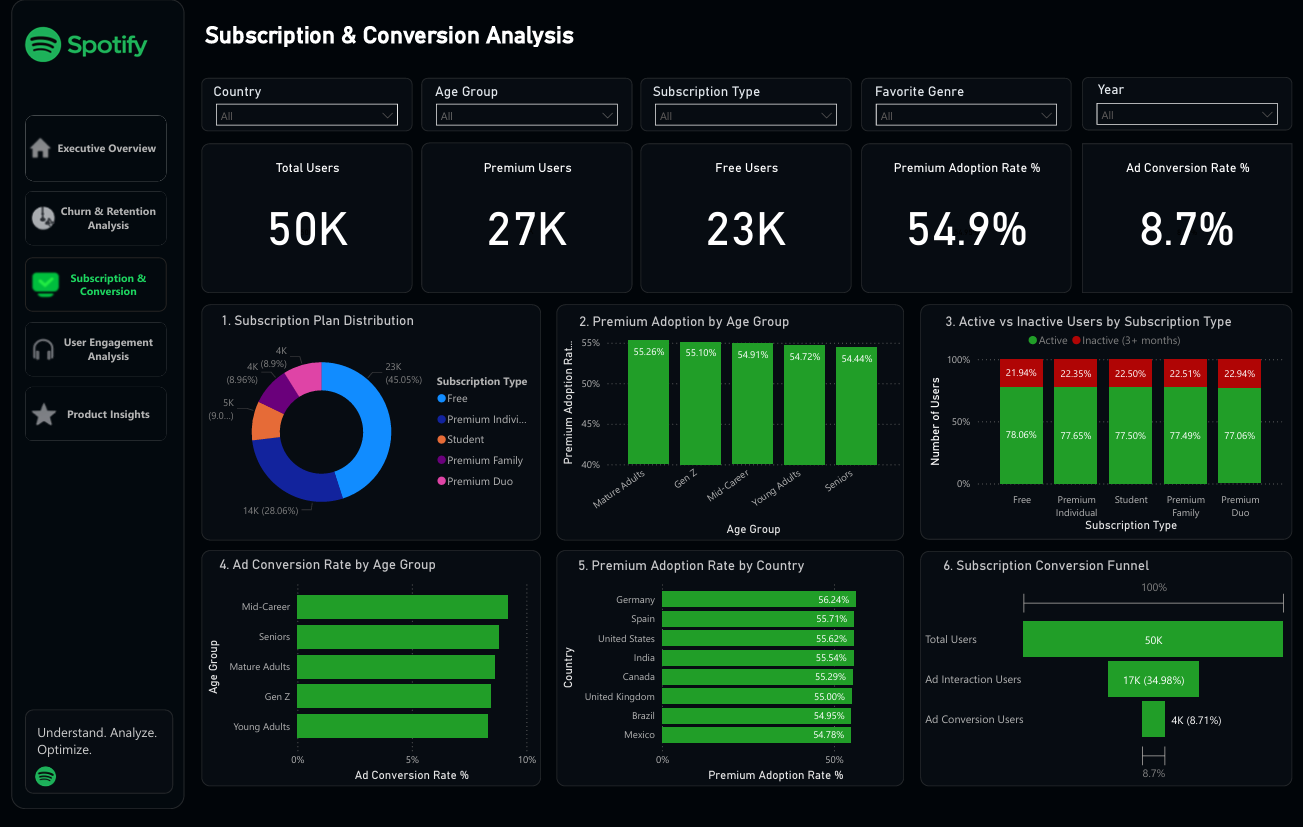

Layout of this report page (visuals, bound fields, positions):
{"tool":"powerbi","page":{"name":"Subscription Conversion Analysis","canvas":[1620,1024],"ordinal":2},"visuals":[{"type":"card","title":"Total Users","fields":{"Values":["Data.Total Users"]},"box":[250.8,177.5,260.8,185.4],"z":0},{"type":"card","title":"Premium Users","fields":{"Values":["Data.Premium Users"]},"box":[522.7,177.3,260.9,185.5],"z":1000},{"type":"card","title":"Free Users","fields":{"Values":["Data.Free Users"]},"box":[793.8,177.5,260.8,185.4],"z":2000},{"type":"slicer","title":" ","fields":{"Values":["Data.country"]},"box":[250.9,96.7,260.9,66.1],"z":3000},{"type":"slicer","title":" ","fields":{"Values":["Data.Age Group"]},"box":[523,96.7,260.9,66.1],"z":4000},{"type":"slicer","title":" ","fields":{"Values":["Data.subscription_type"]},"box":[793.9,96.7,260.9,66.1],"z":5000},{"type":"slicer","title":" ","fields":{"Values":["Data.favorite_genre"]},"box":[1067,96.7,260,66.1],"z":6000},{"type":"slicer","title":" ","fields":{"Values":["Data.Year"]},"box":[1340,96,260,66],"z":7000},{"type":"card","title":"Premium Adoption Rate %","fields":{"Values":["Data.Premium Adoption Rate %"]},"box":[1067.1,177.5,260,185.4],"z":8000},{"type":"card","title":"Ad Conversion Rate %","fields":{"Values":["Data.Ad Conversion Rate %"]},"box":[1340,177.6,260,185.3],"z":9000},{"type":"donutChart","title":" ","fields":{"Category":["Data.subscription_type"],"Y":["Data.Total Users"]},"box":[251.4,377.1,420,291.4],"z":10000},{"type":"clusteredColumnChart","title":" ","fields":{"Y":["Data.Premium Adoption Rate %"],"Category":["Data.Age Group"]},"box":[690,377.1,430,291.4],"z":11000},{"type":"hundredPercentStackedColumnChart","title":" ","fields":{"Category":["Data.subscription_type"],"Y":["Data.Total Users"],"Series":["Data.Activity Status"]},"box":[1140,377.3,460,290.9],"z":12000},{"type":"clusteredBarChart","title":" ","fields":{"Category":["Data.Age Group"],"Y":["Data.Ad Conversion Rate %"]},"box":[251.4,681.4,420,291.4],"z":13000},{"type":"clusteredBarChart","title":" ","fields":{"Y":["Data.Premium Adoption Rate %"],"Category":["Data.country"]},"box":[690,681.4,430,291.4],"z":14000},{"type":"funnel","title":" ","fields":{"Y":["Data.Total Users","Data.Ad Interaction Users","Data.Ad Conversion Users"]},"box":[1140,681.7,460,291.7],"z":15000},{"type":"shape","box":[15.7,0,214.3,1001.4],"z":16000},{"type":"textbox","title":"Country","box":[261.4,102.9,90,25.7],"z":17000},{"type":"textbox","title":"Age Group","box":[535,102.9,110,22.9],"z":18000},{"type":"textbox","title":"Subscription Type","box":[804.3,104.3,180,24.3],"z":19000},{"type":"textbox","title":"Favorite Genre","box":[1078.6,102.9,180,25.7],"z":20000},{"type":"textbox","title":"Year","box":[1354.3,101.4,55.7,25.7],"z":21000},{"type":"shape","box":[33,878,183,104],"z":22000},{"type":"textbox","box":[42.5,889.5,165.5,57],"z":23000},{"type":"textbox","title":"Subscription & Conversion Analysis","box":[251,27,559,31],"z":24000},{"type":"actionButton","box":[32.9,142.9,175,82.5],"z":25000},{"type":"actionButton","box":[32.9,236.7,175,67.5],"z":26000},{"type":"actionButton","box":[32.9,318.8,175,67.1],"z":27000},{"type":"actionButton","box":[32.9,398.8,175,67.5],"z":28000},{"type":"actionButton","box":[32.9,478.8,175,67.5],"z":29000},{"type":"image","box":[0,0,225.7,121.4],"z":30000},{"type":"card","fields":{"Values":["Data.Total Users"]},"box":[250.9,239.1,260.9,73.6],"z":31000},{"type":"card","fields":{"Values":["Data.Premium Users"]},"box":[522.7,239.1,260.9,73.6],"z":32000},{"type":"card","fields":{"Values":["Data.Free Users"]},"box":[793.6,239.1,260.9,73.6],"z":33000},{"type":"card","fields":{"Values":["Data.Premium Adoption Rate %"]},"box":[1067.3,239.1,260,73.6],"z":34000},{"type":"card","fields":{"Values":["Data.Ad Conversion Rate %"]},"box":[1340,239.1,260,73.6],"z":35000},{"type":"textbox","title":"1. Subscription Plan Distribution","box":[270,385.8,260,25.8],"z":36000},{"type":"textbox","title":"2. Premium Adoption by Age Group","box":[713,388,304,25],"z":37000},{"type":"textbox","title":"3. Active vs Inactive Users by Subscription Type","box":[1165.6,387.8,381.1,24.4],"z":38000},{"type":"textbox","title":"4. Ad Conversion Rate by Age Group","box":[268.2,688.2,314.5,25.5],"z":39000},{"type":"textbox","title":"5. Premium Adoption Rate by Country","box":[710.7,689.3,343.6,25],"z":40000},{"type":"textbox","title":"6. Subscription Conversion Funnel","box":[1163.3,690,280,24.4],"z":41000},{"type":"image","box":[42.7,947.3,30,27.3],"z":42000}]}

Visuals, with their boxes on the page's 1620x1024 design canvas (x1, y1, x2, y2). These are canvas units, not pixel positions in the 1303x827 screenshot, which may show the page scaled, cropped or inside an application window:
"Total Users" card: 251:178:512:363
"Premium Users" card: 523:177:784:363
"Free Users" card: 794:178:1055:363
" " slicer: 251:97:512:163
" " slicer: 523:97:784:163
" " slicer: 794:97:1055:163
" " slicer: 1067:97:1327:163
" " slicer: 1340:96:1600:162
"Premium Adoption Rate %" card: 1067:178:1327:363
"Ad Conversion Rate %" card: 1340:178:1600:363
" " donutChart: 251:377:671:668
" " clusteredColumnChart: 690:377:1120:668
" " hundredPercentStackedColumnChart: 1140:377:1600:668
" " clusteredBarChart: 251:681:671:973
" " clusteredBarChart: 690:681:1120:973
" " funnel: 1140:682:1600:973
shape: 16:0:230:1001
"Country" textbox: 261:103:351:129
"Age Group" textbox: 535:103:645:126
"Subscription Type" textbox: 804:104:984:129
"Favorite Genre" textbox: 1079:103:1259:129
"Year" textbox: 1354:101:1410:127
shape: 33:878:216:982
textbox: 42:890:208:946
"Subscription & Conversion Analysis" textbox: 251:27:810:58
actionButton: 33:143:208:225
actionButton: 33:237:208:304
actionButton: 33:319:208:386
actionButton: 33:399:208:466
actionButton: 33:479:208:546
image: 0:0:226:121
card - Data.Total Users: 251:239:512:313
card - Data.Premium Users: 523:239:784:313
card - Data.Free Users: 794:239:1054:313
card - Data.Premium Adoption Rate %: 1067:239:1327:313
card - Data.Ad Conversion Rate %: 1340:239:1600:313
"1. Subscription Plan Distribution" textbox: 270:386:530:412
"2. Premium Adoption by Age Group" textbox: 713:388:1017:413
"3. Active vs Inactive Users by Subscription Type" textbox: 1166:388:1547:412
"4. Ad Conversion Rate by Age Group" textbox: 268:688:583:714
"5. Premium Adoption Rate by Country" textbox: 711:689:1054:714
"6. Subscription Conversion Funnel" textbox: 1163:690:1443:714
image: 43:947:73:975
